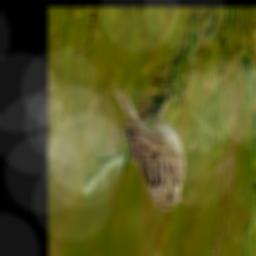Sparrow: (113, 88, 185, 210)
